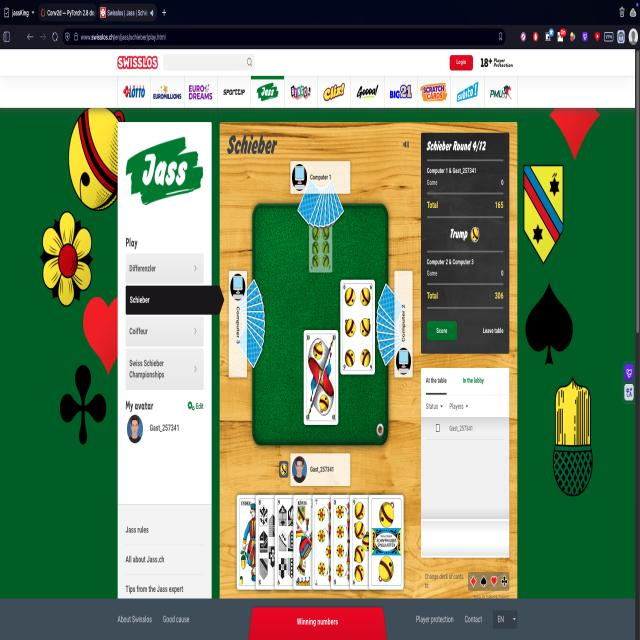eiu: (235, 496, 272, 590)
ro7: (312, 490, 350, 590)
ro8: (333, 494, 366, 590)
se10: (304, 328, 338, 424)
se6: (342, 280, 375, 374)
se9: (350, 494, 384, 593)
sea: (369, 493, 405, 592)
si8: (258, 493, 288, 589)
si9: (275, 491, 309, 589)
sik: (294, 494, 332, 594)
